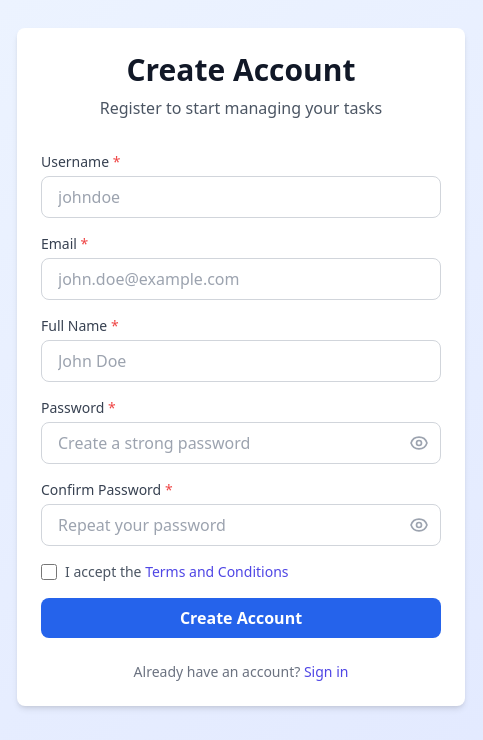
Test case: RegisterView › should show validation error for invalid email
Type "notanemail" into the field with id "email". click: (241, 279)
box: [41, 258, 441, 300]
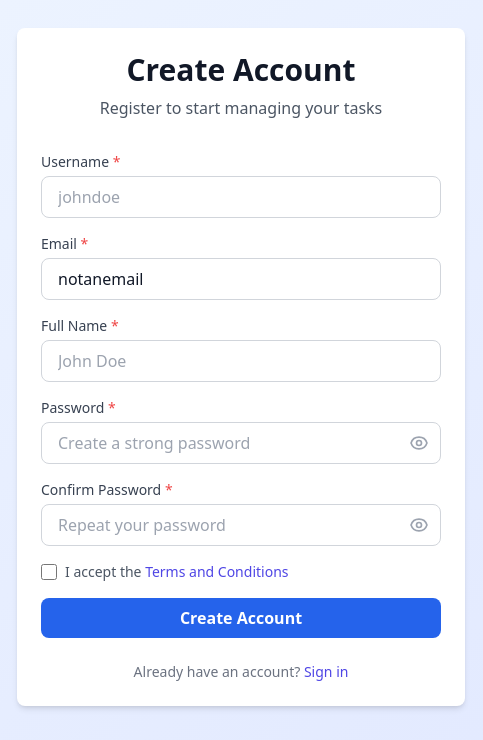
Leave the field with id "email", box [41, 258, 441, 300]
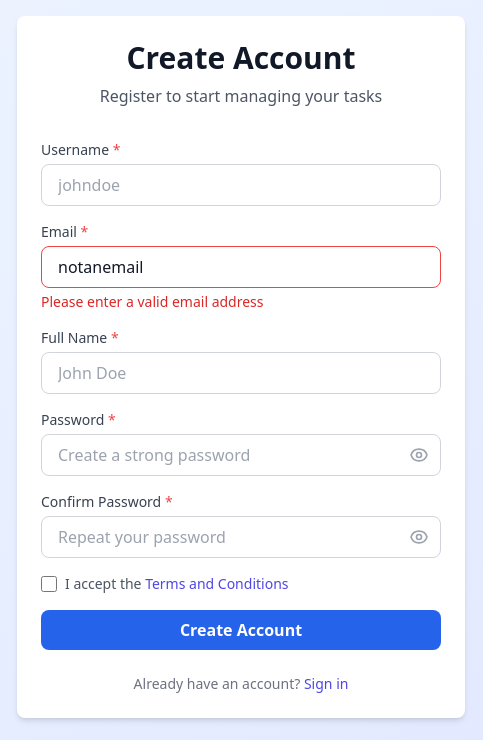
Check: the text "valid email address" is shown, box [41, 292, 264, 311]
